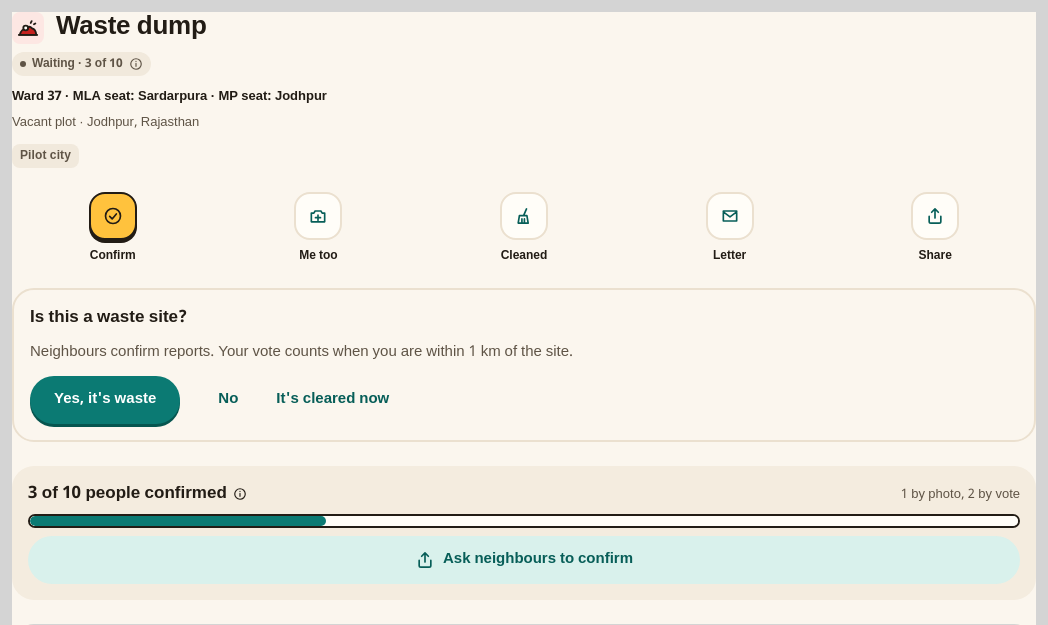
Scenario: Ask neighbours to confirm › copies the message with the link where there is no share sheet
Click the button "Ask neighbours to confirm": [524, 560] box [28, 536, 1020, 584]
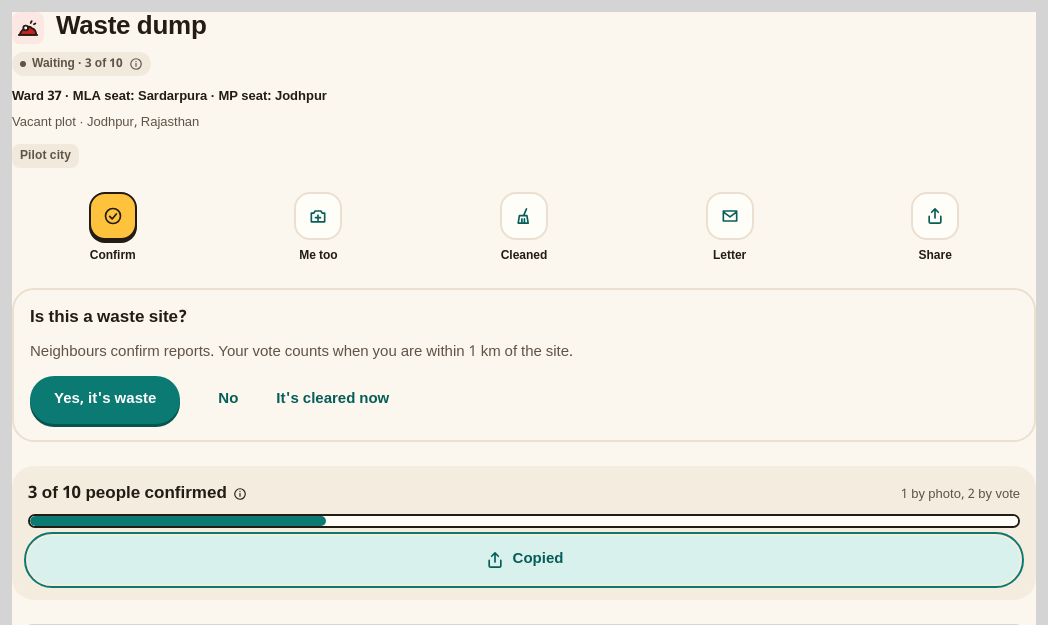
Expected: the button "Copied" is shown, [28, 536, 1020, 584]
